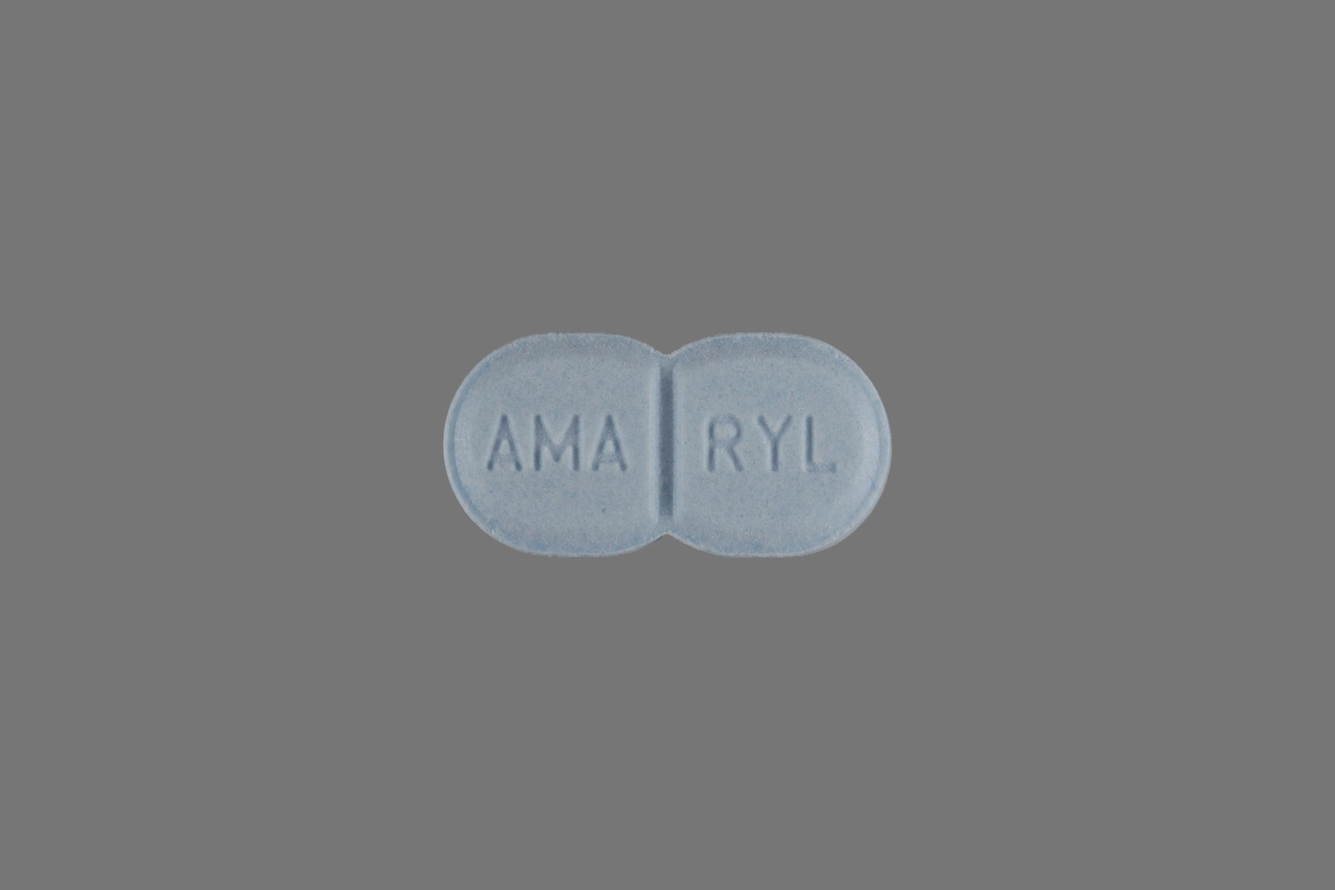Pill: (426, 319, 909, 575)
